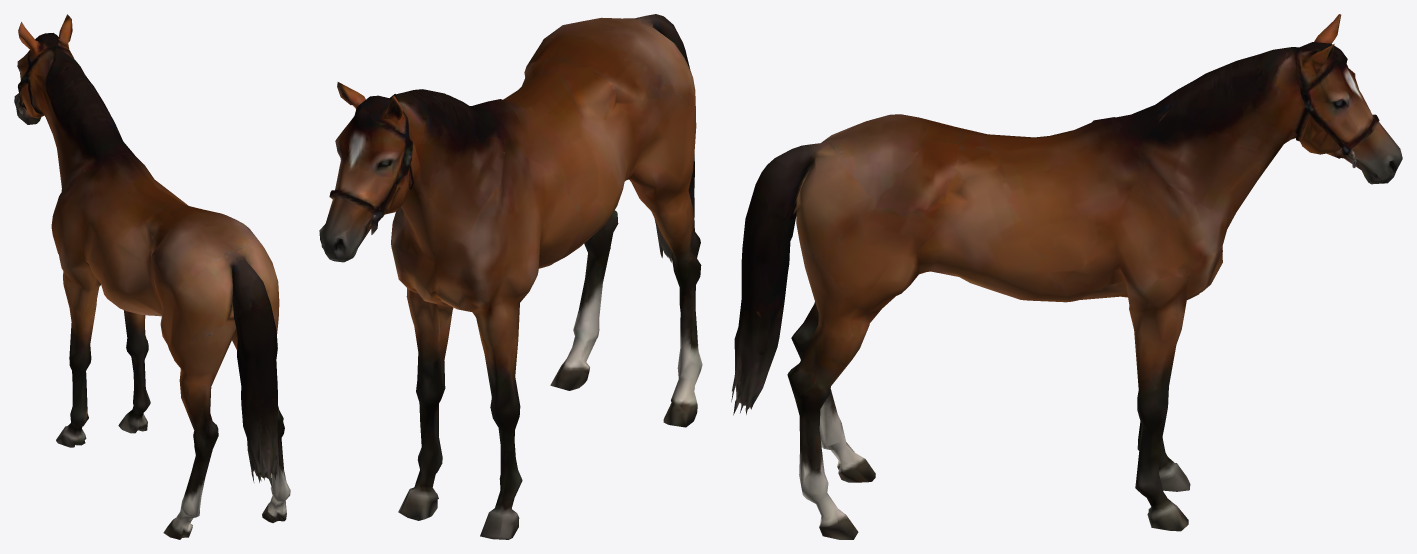
Rendered from racehorse-lod-Co4PH6j5.glb.
3 renders of one model, left to right at view 1: azimuth 30°, elevation 25°; view 2: azimuth 150°, elevation 25°; view 3: azimuth 270°, elevation 25°, orthographic. The views are drawn at different scales.
Visible parts, largest first — view 1: tripo_node_d31a0409-19a6-4579-9c41-65c167452c79; view 2: tripo_node_d31a0409-19a6-4579-9c41-65c167452c79; view 3: tripo_node_d31a0409-19a6-4579-9c41-65c167452c79.
Part boxes in pixels (x1,y1,x2,y2): tripo_node_d31a0409-19a6-4579-9c41-65c167452c79: [14, 14, 290, 539]; tripo_node_d31a0409-19a6-4579-9c41-65c167452c79: [319, 14, 702, 539]; tripo_node_d31a0409-19a6-4579-9c41-65c167452c79: [731, 14, 1402, 539].
Bounding box in the file's own units: 0.2363 × 0.773 × 0.9767.
Materials: 1 (1 with a texture image).
